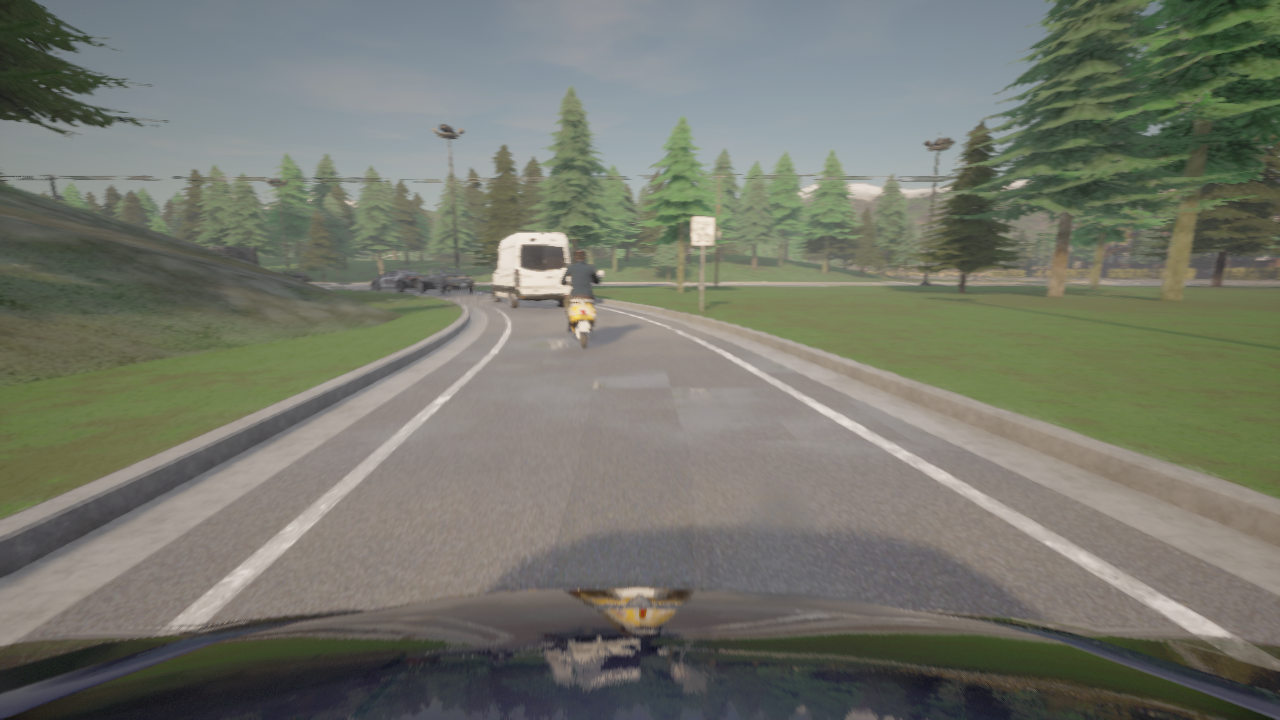cyclist: (0, 588, 1279, 719), (490, 232, 570, 308), (208, 246, 313, 282), (555, 271, 604, 348), (417, 268, 475, 294), (372, 268, 428, 291)
